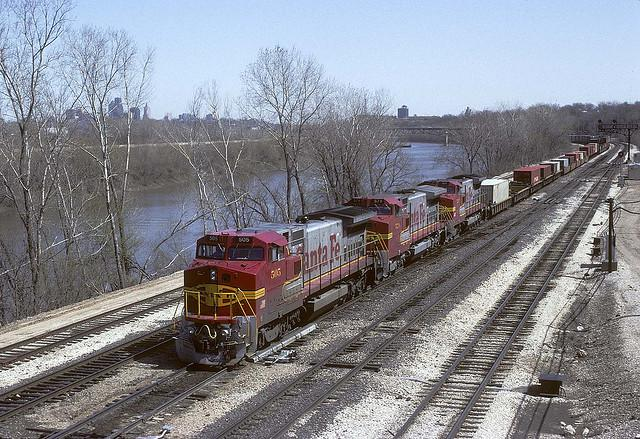Train: (176, 137, 618, 366)
